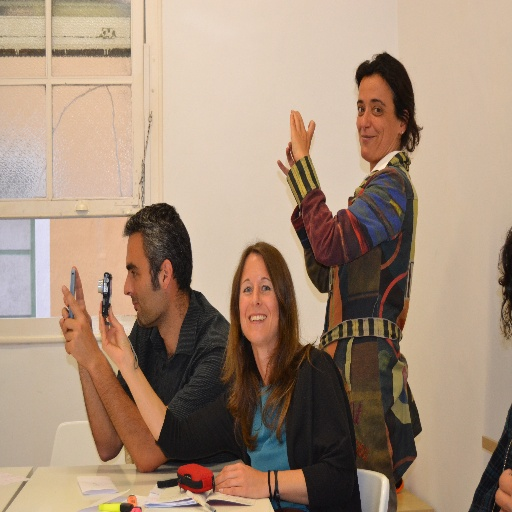hand: (61, 287, 94, 367), (286, 100, 320, 173), (57, 264, 92, 334), (214, 461, 268, 499), (98, 297, 129, 363), (275, 138, 295, 176), (494, 467, 511, 511)
